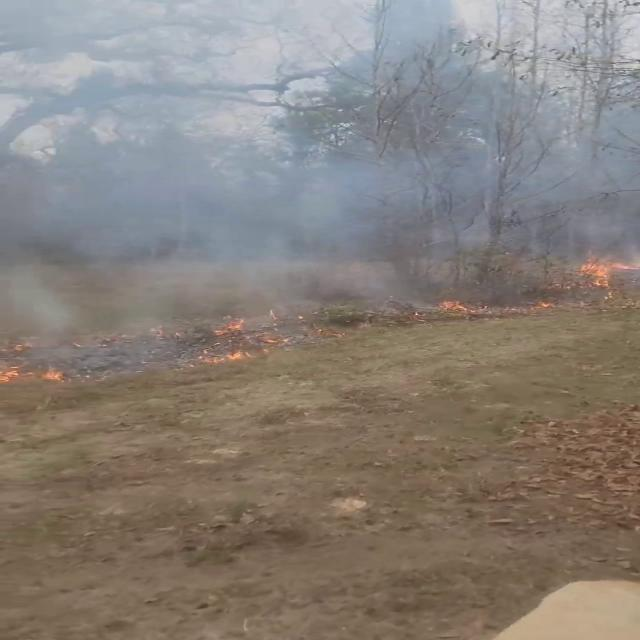Fire: (570, 250, 639, 292)
Smoke: (3, 6, 638, 360)
